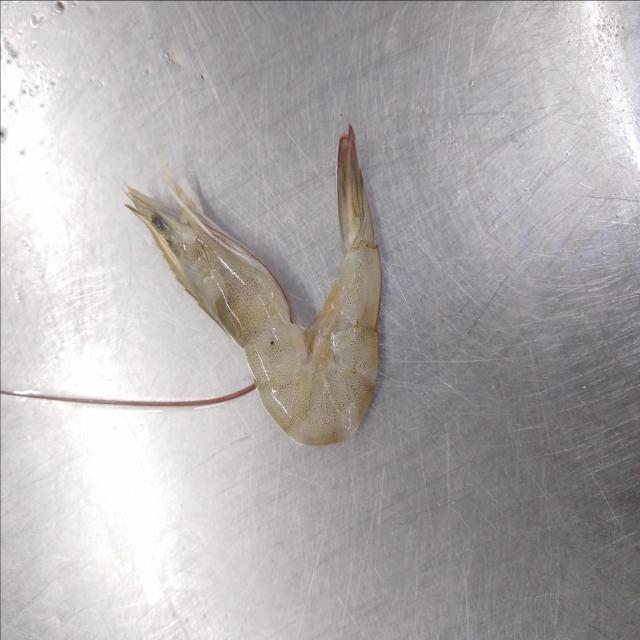shrimp: (126, 126, 381, 445)
